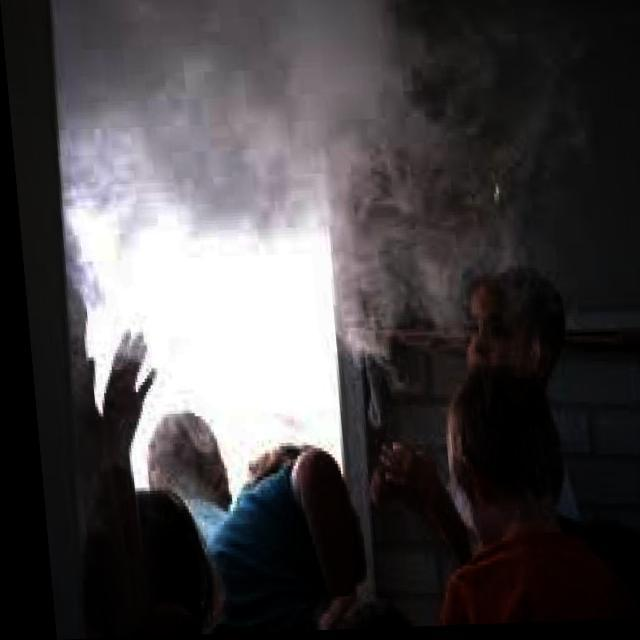Smoke: (0, 0, 590, 410)
